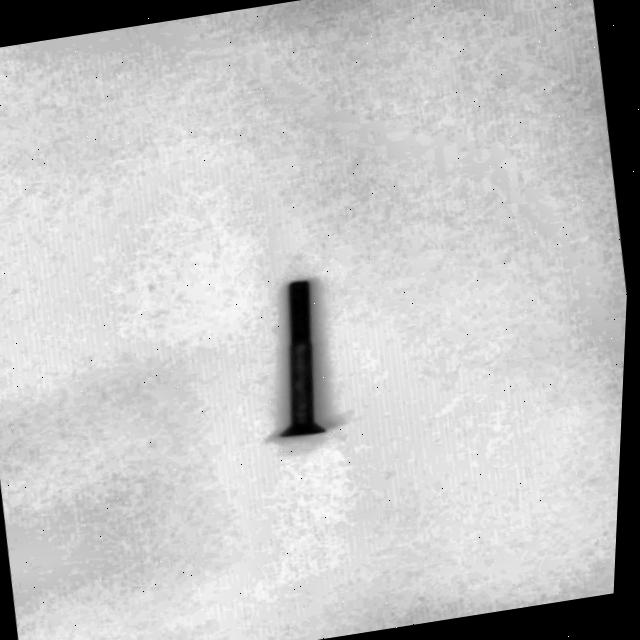Flat head socket screw: (255, 276, 343, 443)
